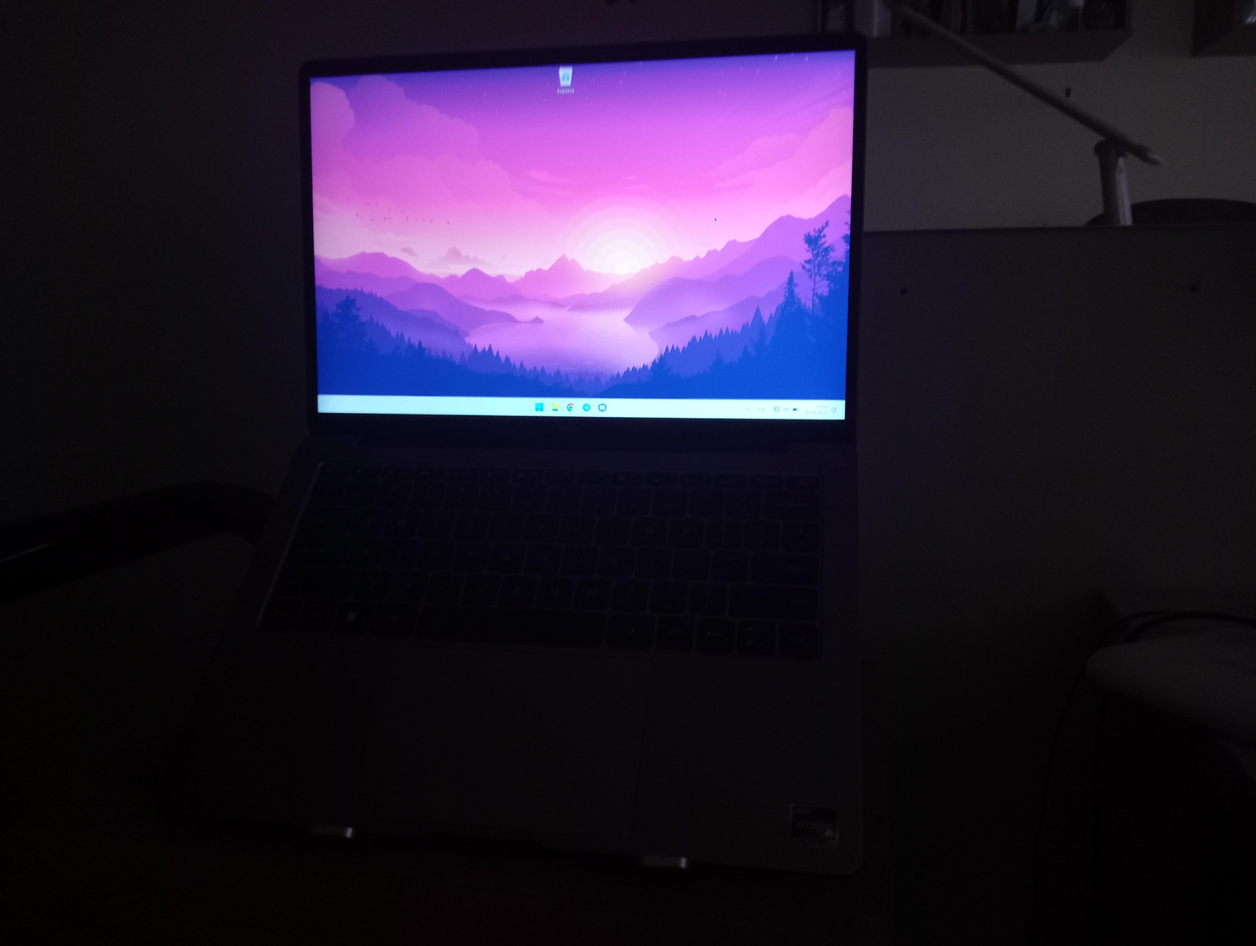monitor: (292, 28, 871, 473)
